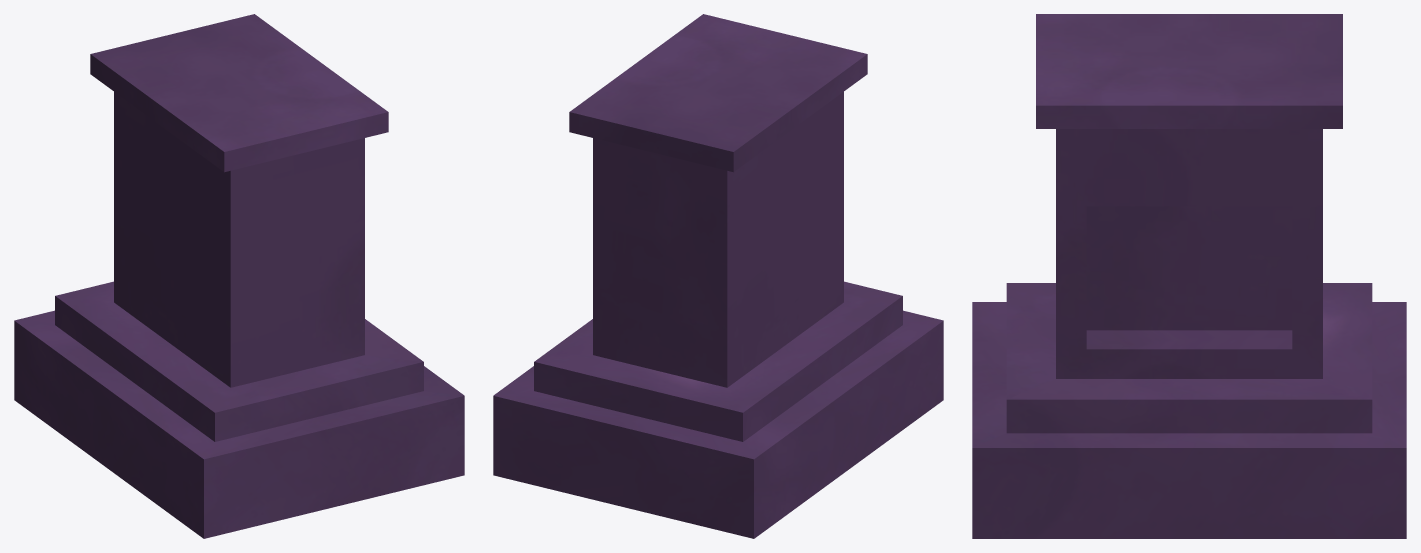
The model's file is tombe3.fbx.
3 renders of one model, left to right at view 1: azimuth 30°, elevation 25°; view 2: azimuth 150°, elevation 25°; view 3: azimuth 270°, elevation 25°, orthographic. The views are drawn at different scales.
Parts seen in each view (by area): view 1: pCube5; view 2: pCube5; view 3: pCube5.
Part boxes in pixels (bbox=[...]): pCube5: bbox=[14, 14, 464, 538]; pCube5: bbox=[493, 14, 943, 538]; pCube5: bbox=[972, 14, 1406, 538].
Size of the model in its own units: 2.6 by 3.38 by 3.27.
